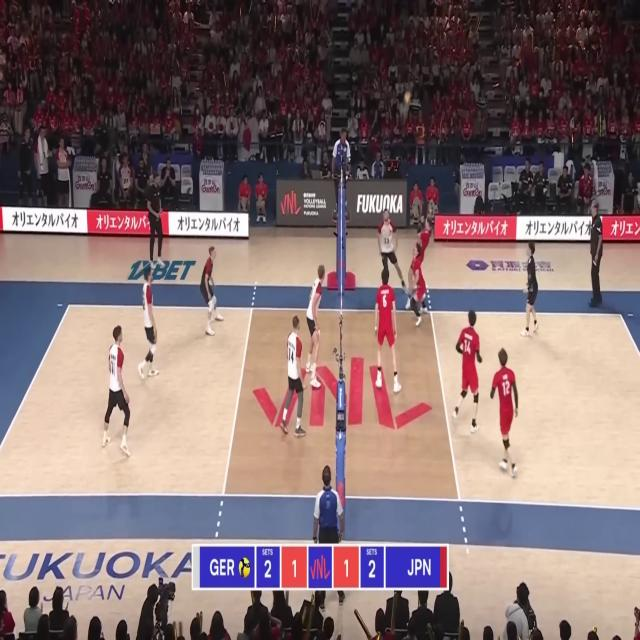referee: (312, 464, 346, 608)
team_one: (101, 324, 130, 458), (280, 314, 307, 436), (305, 266, 328, 390), (138, 266, 162, 382), (377, 208, 408, 294), (198, 244, 224, 338)
team_two: (490, 348, 520, 479), (452, 310, 482, 432), (373, 268, 402, 394), (521, 241, 540, 339), (411, 243, 428, 326), (414, 215, 432, 261)
